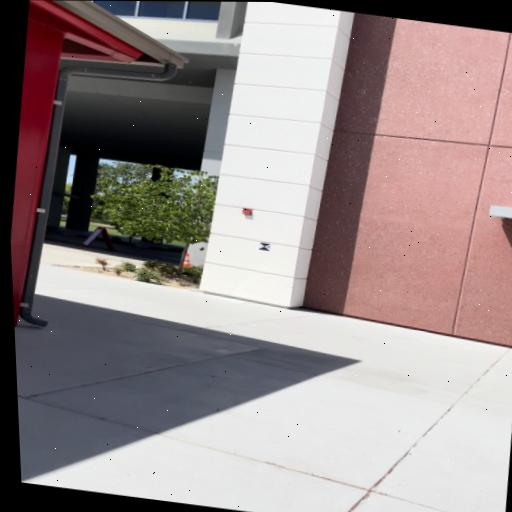target2: (258, 242, 272, 251)
